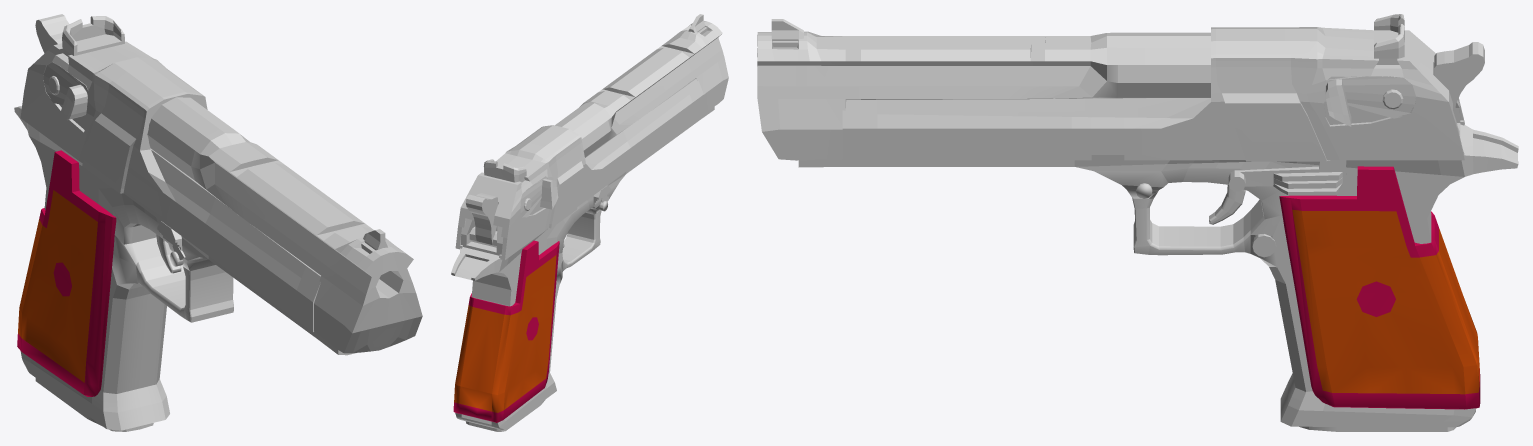
File: deseert egle.fbx
The picture shows the model from 3 angles, left to right: view 1: azimuth 30°, elevation 25°; view 2: azimuth 150°, elevation 25°; view 3: azimuth 270°, elevation 25°; orthographic projection. The views are drawn at different scales.
Parts seen in each view (by area): view 1: head, Barrel_low, grip, Grip_low, hammer, safe, magaine; view 2: head, Grip_low, Barrel_low, grip, hammer, safe; view 3: head, Grip_low, Barrel_low, grip, safe, hammer, magaine.
Part boxes in pixels (x1,y1,x2,y2): head: (20, 16, 320, 331); Barrel_low: (147, 97, 422, 353); grip: (14, 106, 357, 430); Grip_low: (17, 150, 116, 396); hammer: (35, 14, 69, 53); safe: (157, 221, 185, 266); magaine: (35, 378, 153, 431); head: (455, 79, 703, 260); Grip_low: (453, 240, 559, 422); Barrel_low: (555, 14, 728, 157); grip: (451, 106, 714, 429); hammer: (465, 193, 497, 247); safe: (593, 185, 610, 211); head: (842, 14, 1464, 161); Grip_low: (1279, 166, 1480, 409); Barrel_low: (757, 19, 1210, 160); grip: (798, 100, 1518, 427); safe: (1136, 160, 1346, 198); hammer: (1434, 42, 1484, 115); magaine: (1299, 426, 1455, 431).
Size of the model in its own units: 1.57 by 5.3 by 9.22.
